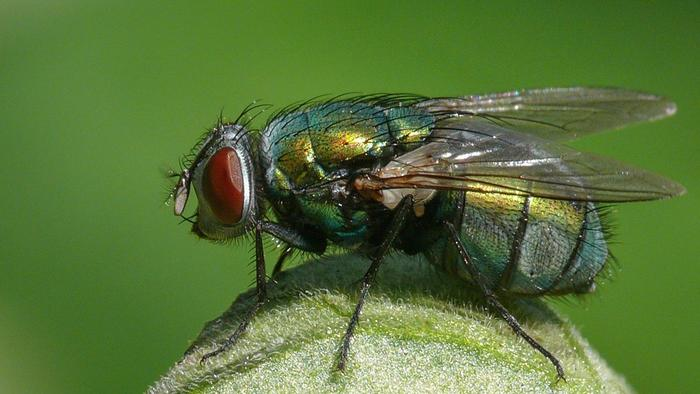house fly: (157, 82, 690, 385)
